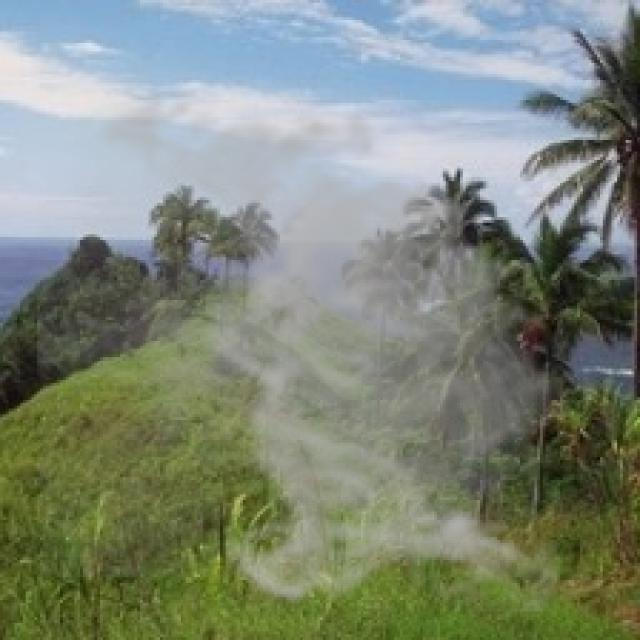smoke: (37, 80, 589, 611)
